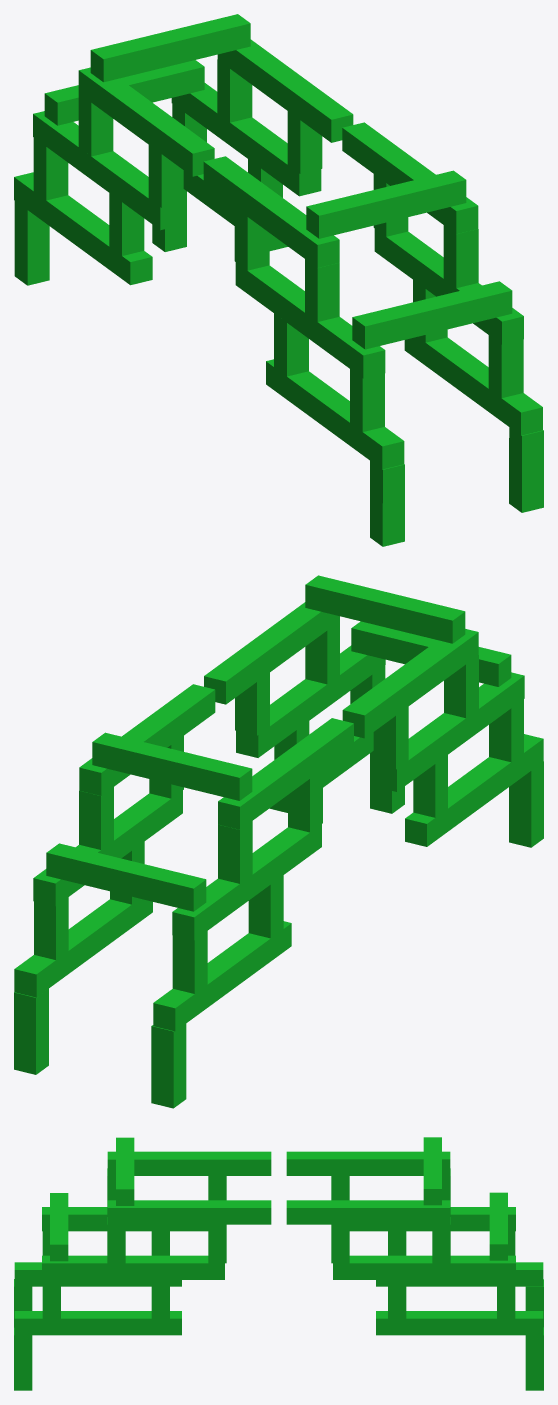
Rendered from Dynamic_1kg_0_5friction.fbx.
3 renders of one model, top to bottom at view 1: azimuth 30°, elevation 25°; view 2: azimuth 150°, elevation 25°; view 3: azimuth 270°, elevation 25°, orthographic. The views are drawn at different scales.
Visible parts, largest first — view 1: D1DynamicBox20, D1DynamicBox17, D1DynamicBox18, D1DynamicBox3, D1DynamicBox23, D1DynamicBox2, D1DynamicBox22, D1DynamicBox34, D1DynamicBox6, D1DynamicBox26, D1DynamicBox35, D1DynamicBox11 (+20 smaller); view 2: D1DynamicBox19, D1DynamicBox17, D1DynamicBox20, D1DynamicBox23, D1DynamicBox3, D1DynamicBox22, D1DynamicBox2, D1DynamicBox14, D1DynamicBox26, D1DynamicBox6, D1DynamicBox31, D1DynamicBox15 (+20 smaller); view 3: D1DynamicBox35, D1DynamicBox15, D1DynamicBox34, D1DynamicBox14, D1DynamicBox11, D1DynamicBox31, D1DynamicBox23, D1DynamicBox3, D1DynamicBox2, D1DynamicBox22, D1DynamicBox26, D1DynamicBox6 (+20 smaller).
Part boxes in pixels (left/top/right/bottom): D1DynamicBox20: left=90, top=14, right=250, bottom=82; D1DynamicBox17: left=306, top=170, right=466, bottom=238; D1DynamicBox18: left=352, top=281, right=512, bottom=349; D1DynamicBox3: left=203, top=156, right=339, bottom=267; D1DynamicBox23: left=78, top=67, right=214, bottom=176; D1DynamicBox2: left=235, top=262, right=385, bottom=378; D1DynamicBox22: left=33, top=111, right=182, bottom=230; D1DynamicBox34: left=217, top=39, right=353, bottom=142; D1DynamicBox6: left=266, top=359, right=404, bottom=469; D1DynamicBox26: left=14, top=172, right=152, bottom=285; D1DynamicBox35: left=171, top=83, right=321, bottom=196; D1DynamicBox11: left=404, top=337, right=542, bottom=435; D1DynamicBox19: left=46, top=843, right=206, bottom=911; D1DynamicBox17: left=305, top=575, right=465, bottom=643; D1DynamicBox20: left=92, top=732, right=252, bottom=800; D1DynamicBox23: left=218, top=718, right=353, bottom=829; D1DynamicBox3: left=342, top=629, right=478, bottom=738; D1DynamicBox22: left=172, top=824, right=321, bottom=940; D1DynamicBox2: left=375, top=672, right=524, bottom=791; D1DynamicBox14: left=204, top=602, right=339, bottom=704; D1DynamicBox26: left=153, top=921, right=291, bottom=1031; D1DynamicBox6: left=405, top=734, right=543, bottom=846; D1DynamicBox31: left=14, top=898, right=152, bottom=997; D1DynamicBox15: left=236, top=645, right=385, bottom=757; D1DynamicBox35: left=333, top=1255, right=515, bottom=1279; D1DynamicBox15: left=42, top=1255, right=224, bottom=1279; D1DynamicBox34: left=286, top=1200, right=450, bottom=1224; D1DynamicBox14: left=107, top=1200, right=271, bottom=1224; D1DynamicBox11: left=14, top=1311, right=181, bottom=1335; D1DynamicBox31: left=376, top=1311, right=543, bottom=1335; D1DynamicBox23: left=286, top=1151, right=450, bottom=1175; D1DynamicBox3: left=107, top=1151, right=271, bottom=1175; D1DynamicBox2: left=42, top=1207, right=208, bottom=1231; D1DynamicBox22: left=349, top=1207, right=515, bottom=1231; D1DynamicBox26: left=376, top=1262, right=543, bottom=1286; D1DynamicBox6: left=14, top=1262, right=181, bottom=1286.
Size of what is drawn, in the model's own units: 21.91 by 36 by 86.87.
